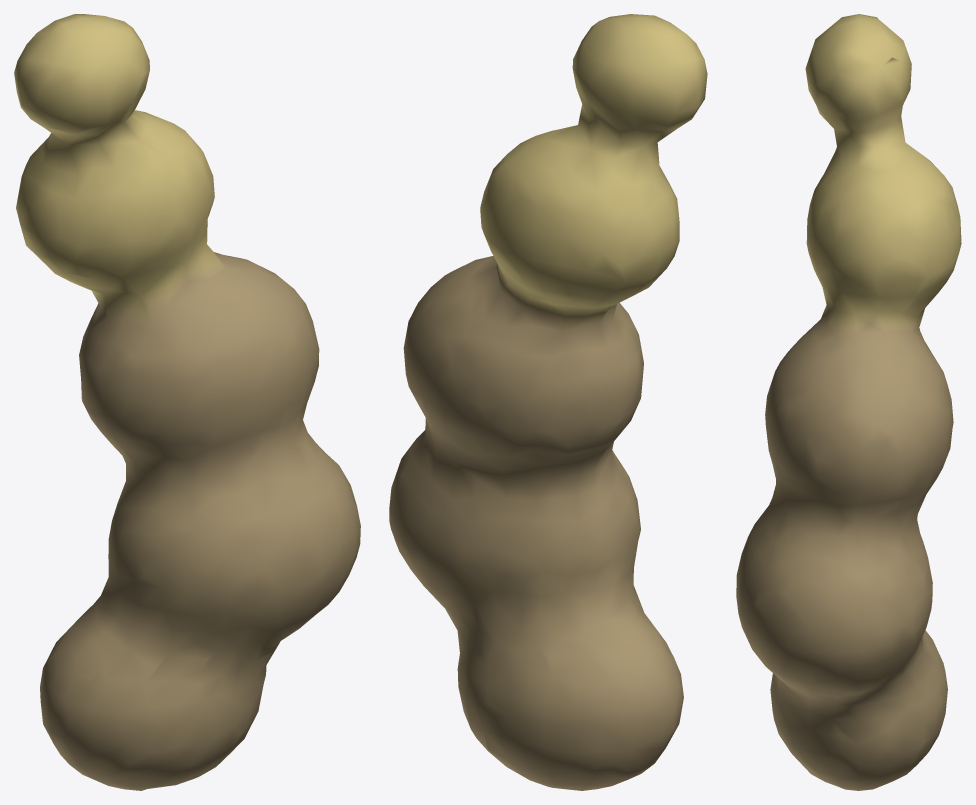
The model's file is ore.glb.
3 views of the same model, side by side, from view 1: azimuth 30°, elevation 25°; view 2: azimuth 150°, elevation 25°; view 3: azimuth 270°, elevation 25° (orthographic). The views are drawn at different scales.
Visible parts, largest first — view 1: ore; view 2: ore; view 3: ore.
Boxes of the visible parts, x1,y1,x2,y2 form: ore: (14, 14, 360, 790); ore: (389, 14, 707, 790); ore: (736, 14, 961, 790).
Bounding box in the file's own units: 0.1352 × 0.3209 × 0.0901.
